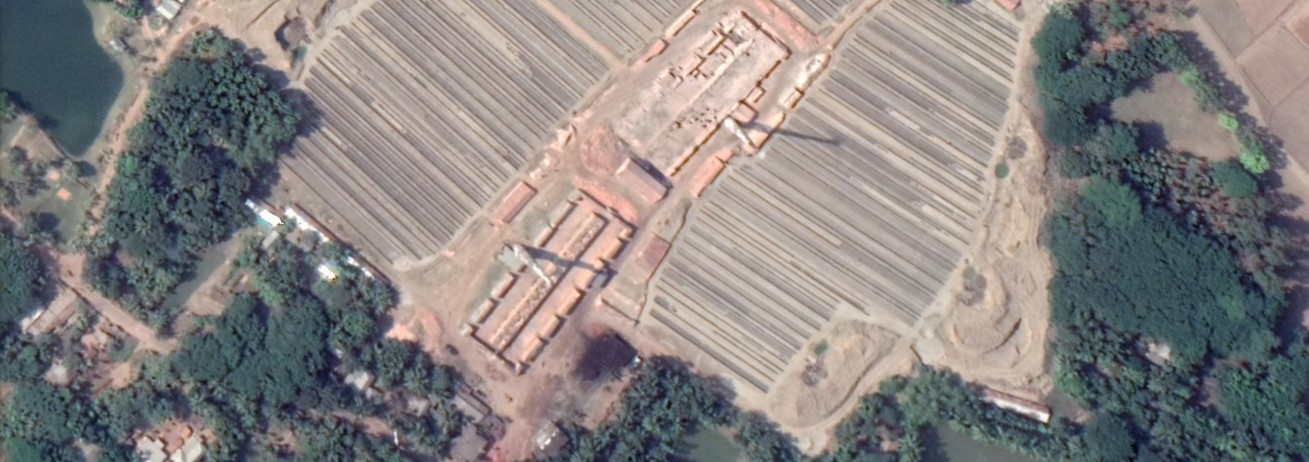kiln: (467, 203, 634, 367), (635, 36, 820, 177)
